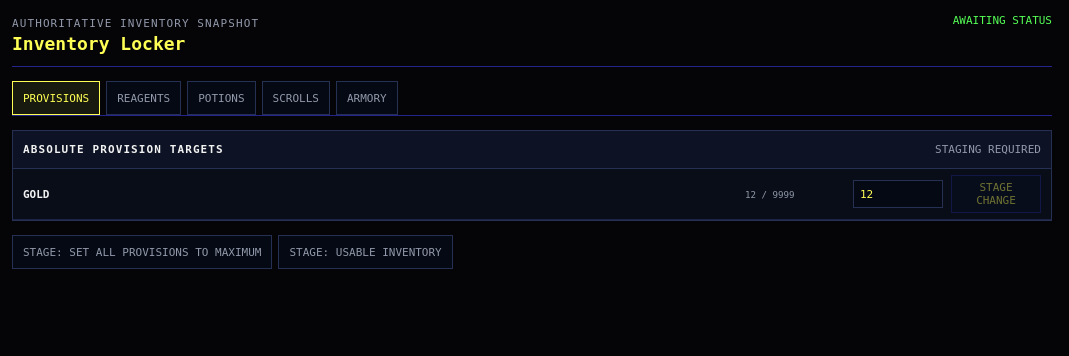
it: InventoryLocker review authority › shows invalid target  without granting review authority
The image size is (1069, 356).
Replace the text in the number field named "gold target quantity" with "20" at (898, 194), box [853, 180, 943, 208]
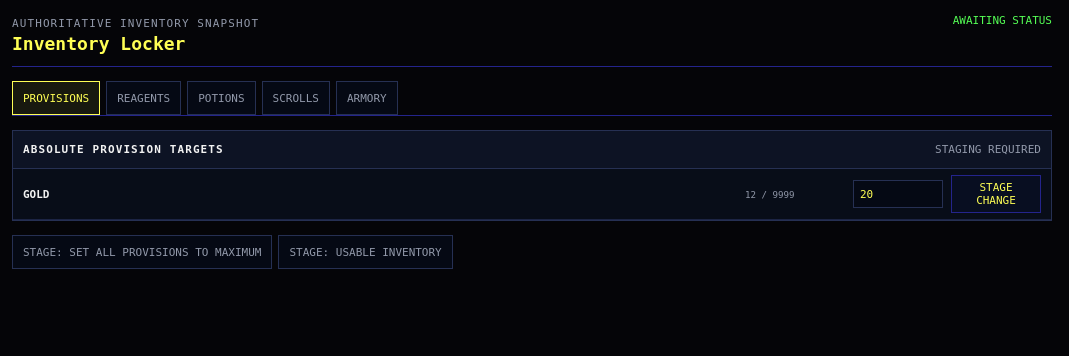
Click the button "STAGE CHANGE".
click(996, 194)  # box [951, 175, 1041, 213]
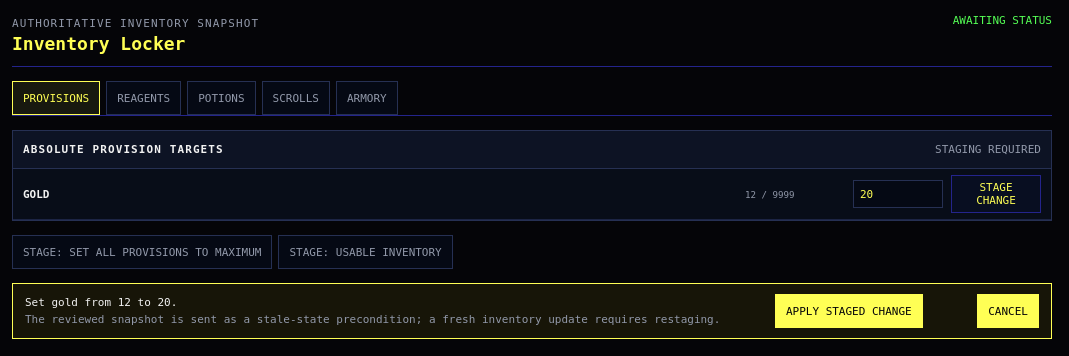
Clear the number field named "gold target quantity" at (898, 194), box [853, 180, 943, 208]
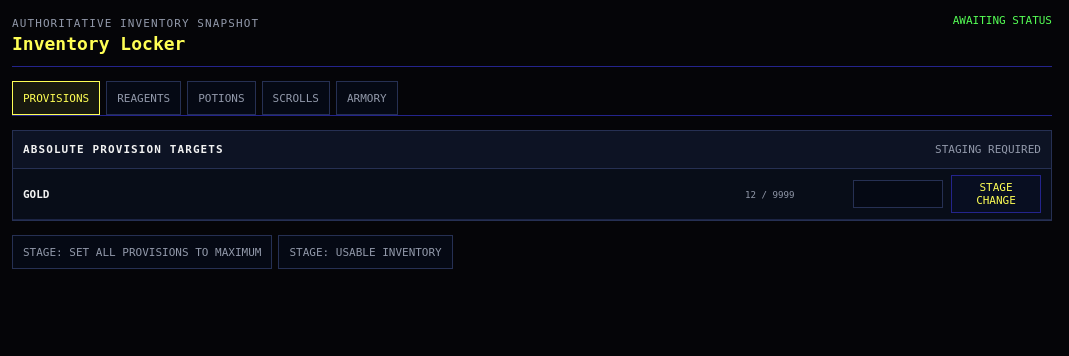
Click the button "STAGE CHANGE".
click(996, 194)  # box [951, 175, 1041, 213]
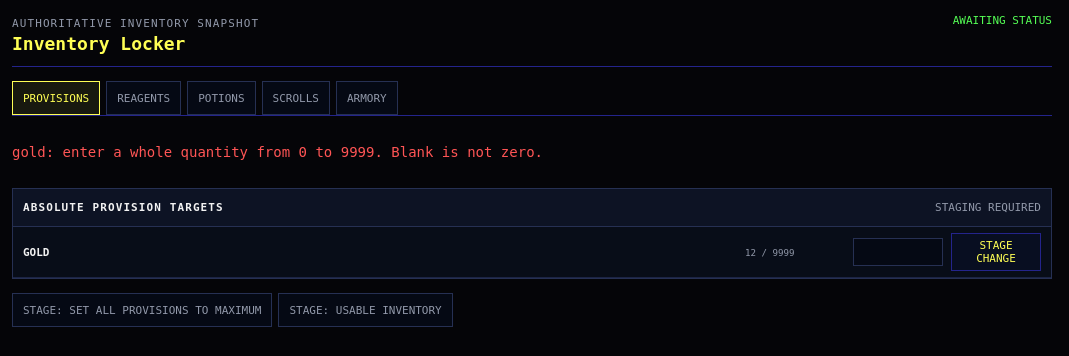
Expected: the message "gold: enter a whole quantity from 0 to 9999. Blank is not zero." is shown, [12, 144, 543, 160]
